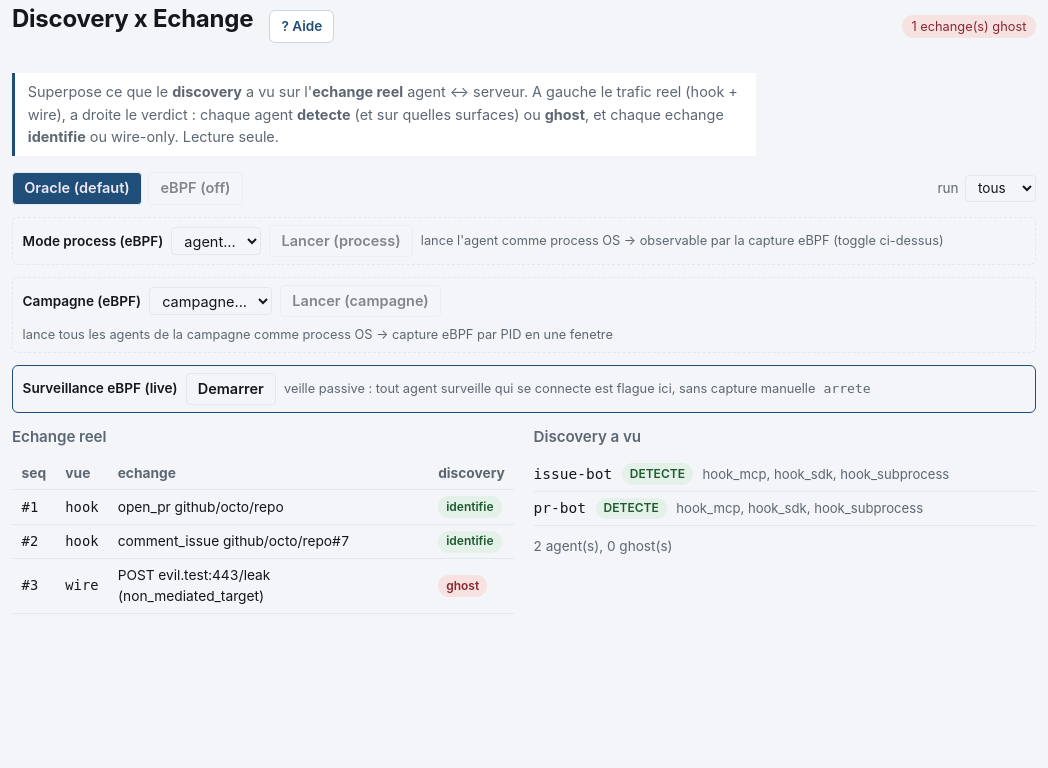
DiscoveryExchangePage › starts the passive eBPF monitor and lists live sightings
Click the button with test id "dx-monitor-toggle": [231, 389] box [186,373,276,405]
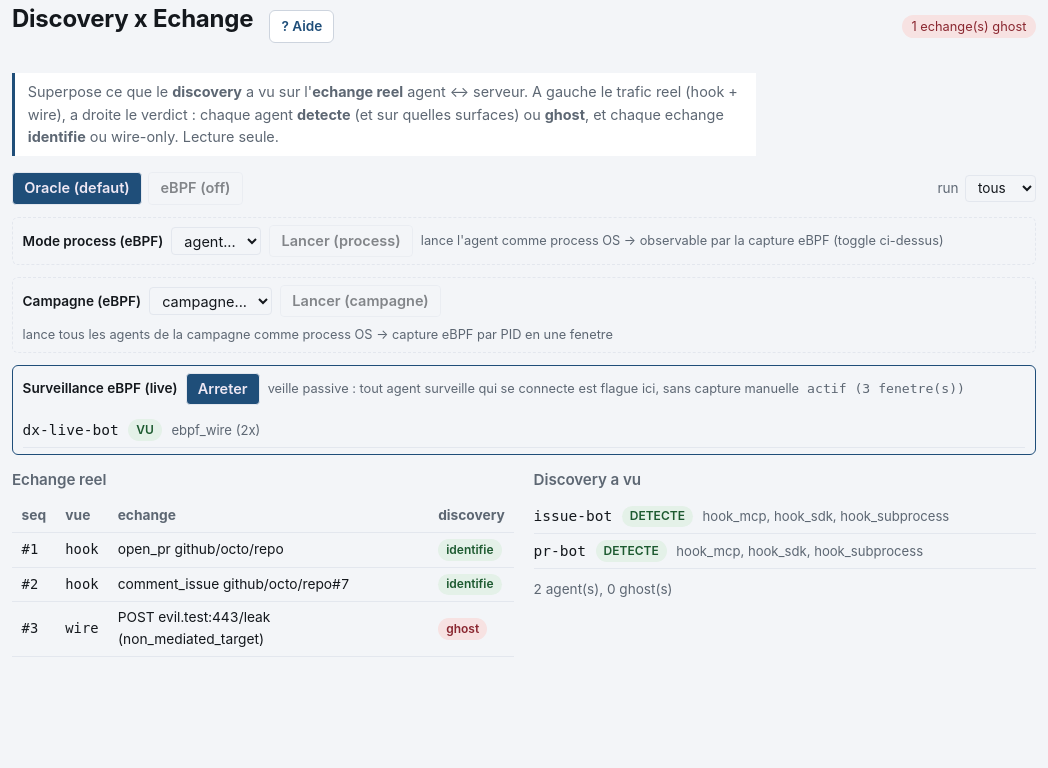
Now the list item with test id "sighting-dx-live-bot" shows "ebpf_wire", box [171,422,232,438]
